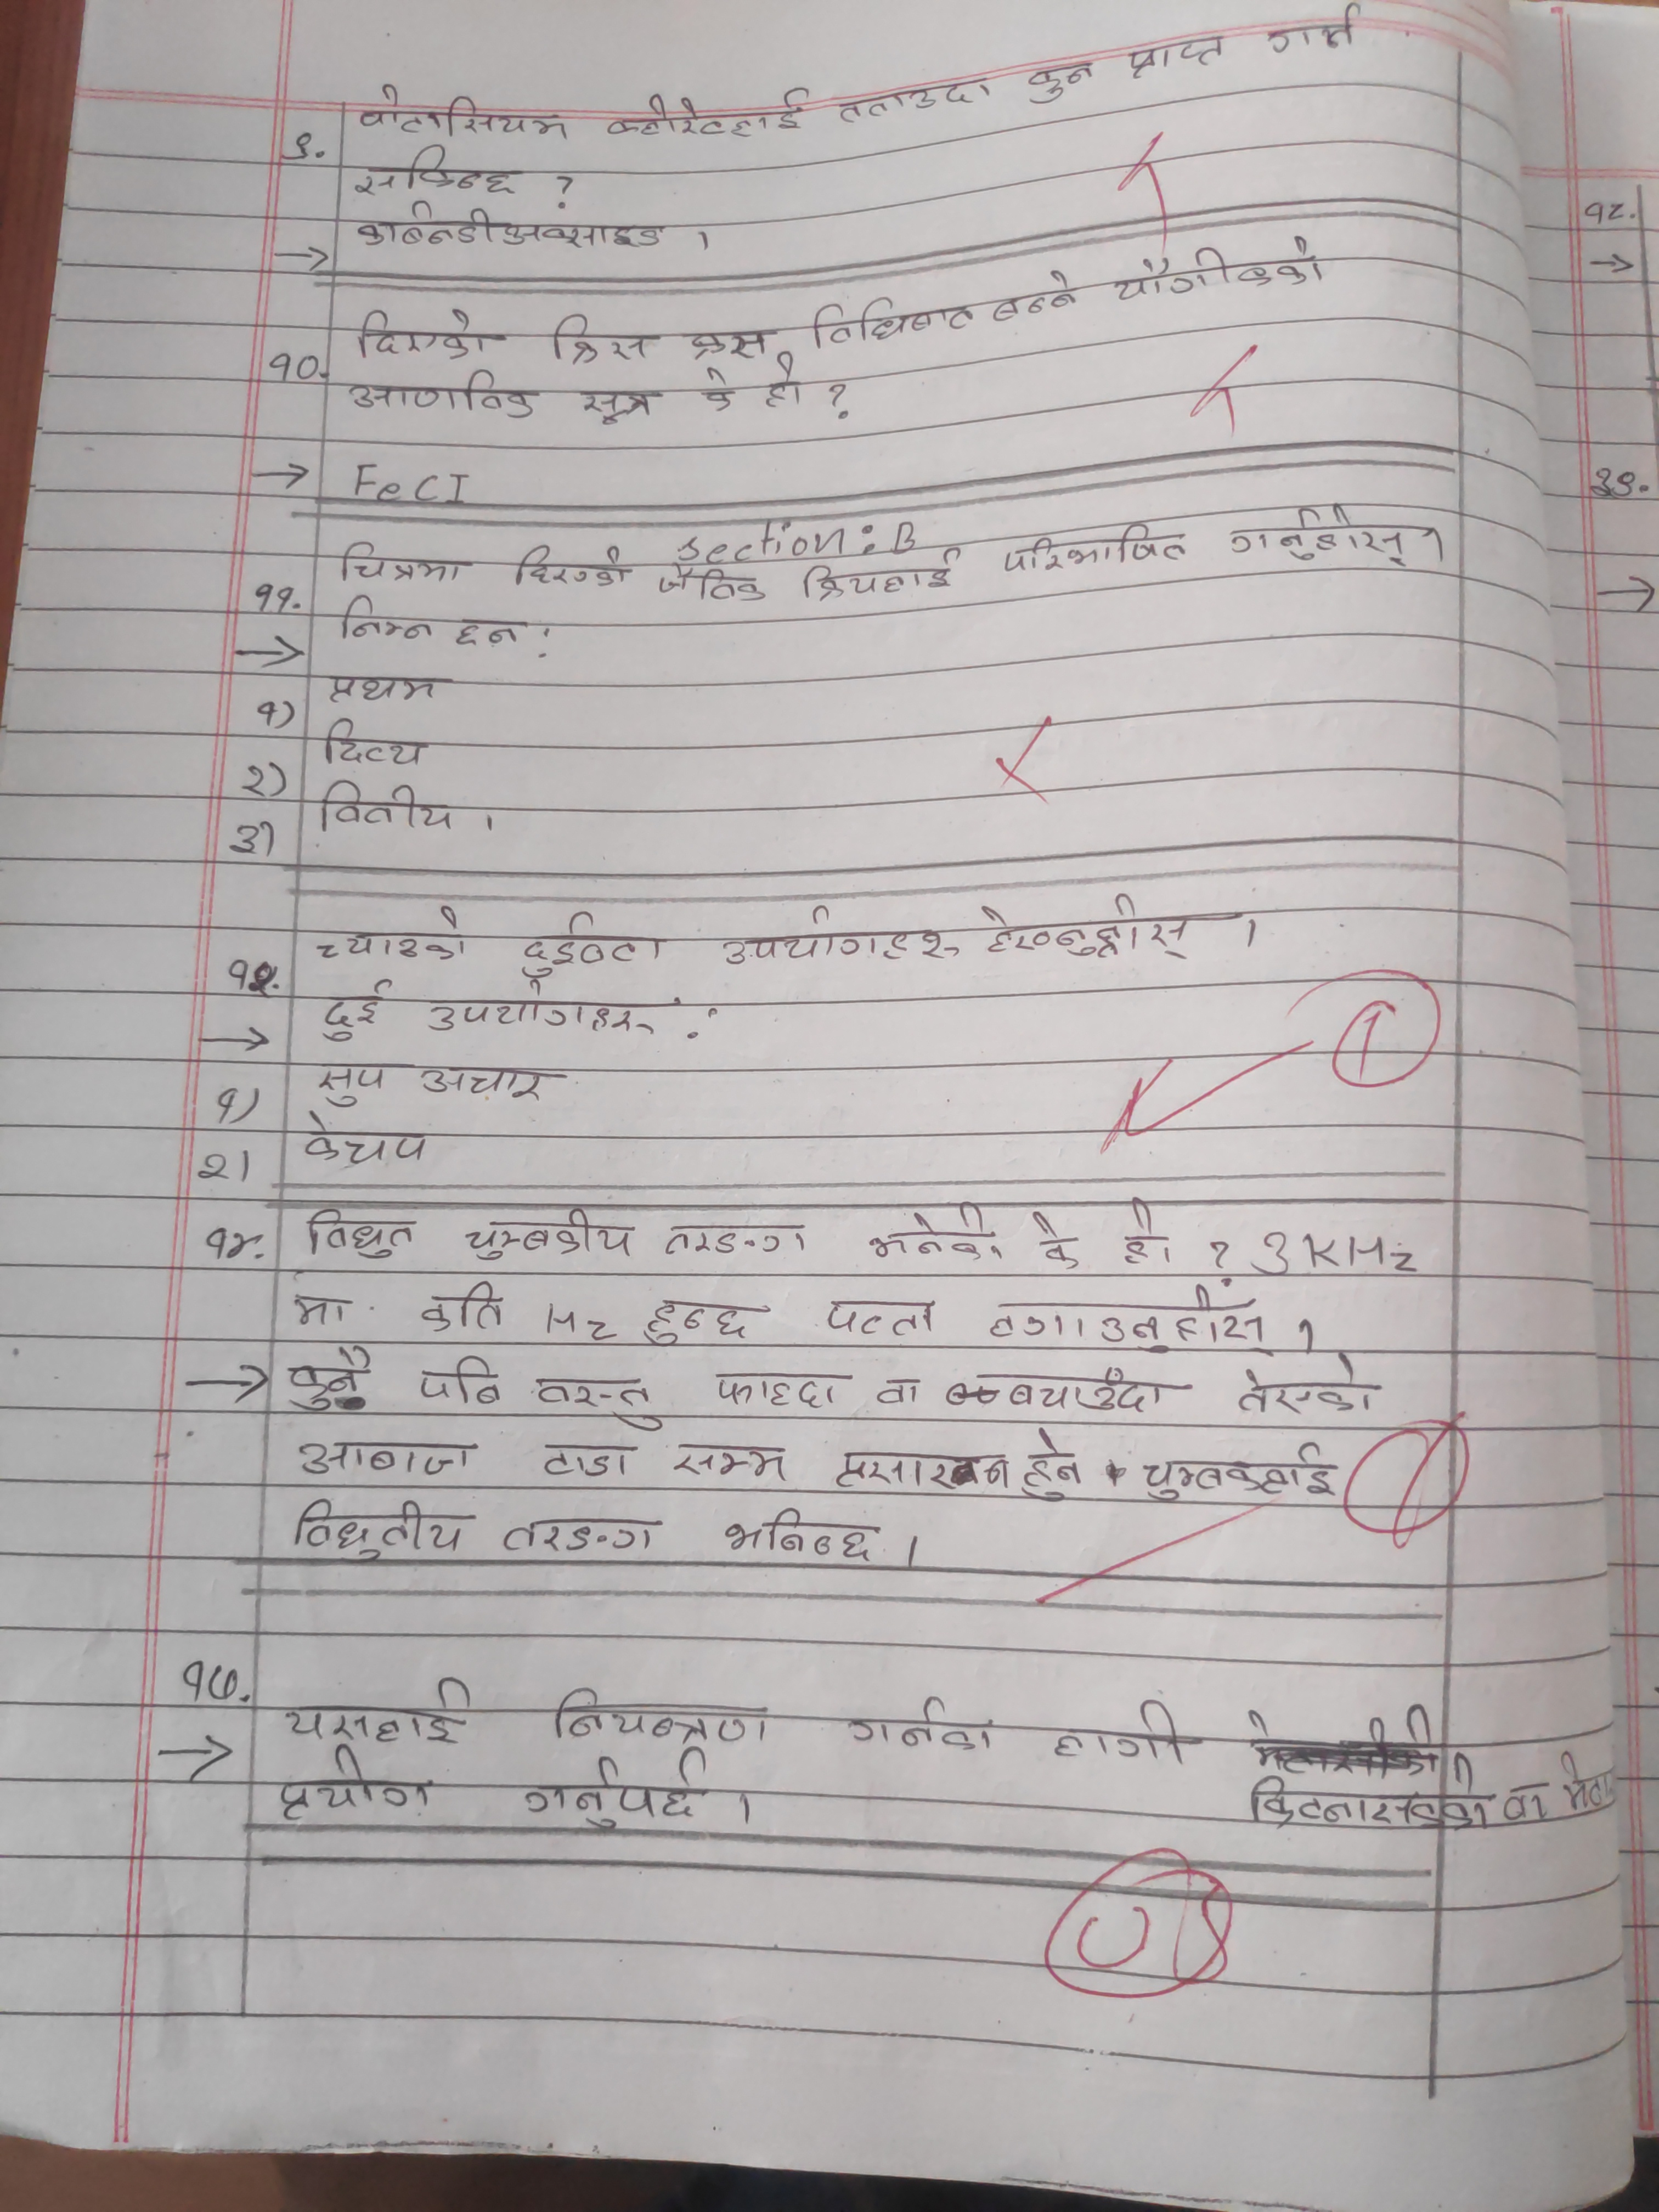text: (983, 1289, 1272, 1355), (1243, 1764, 1488, 1838), (976, 890, 1218, 963), (718, 904, 962, 970), (1223, 502, 1448, 573), (357, 202, 666, 253), (519, 1750, 713, 1831), (1107, 235, 1328, 305), (547, 1683, 782, 1747), (425, 979, 667, 1040), (282, 1676, 483, 1749), (354, 84, 570, 143), (1138, 1444, 1338, 1507), (270, 1747, 439, 1818), (1053, 1691, 1195, 1775), (291, 1494, 469, 1561), (460, 1204, 638, 1268), (950, 1366, 1175, 1416), (312, 900, 472, 970), (516, 909, 674, 979), (606, 89, 812, 141), (1232, 1352, 1378, 1423), (347, 368, 535, 421), (349, 143, 519, 202), (1000, 523, 1194, 575), (310, 775, 460, 840), (843, 1693, 993, 1757), (725, 1505, 880, 1566), (830, 1449, 1012, 1500), (528, 1369, 664, 1437), (861, 1200, 1007, 1263), (798, 550, 957, 606), (349, 307, 502, 361), (809, 300, 978, 348), (286, 1437, 481, 1479), (300, 1113, 432, 1169), (498, 1515, 662, 1559), (835, 78, 995, 122), (301, 1205, 422, 1263), (657, 1217, 816, 1261), (335, 538, 471, 589), (321, 712, 434, 772), (643, 1291, 756, 1350), (709, 1369, 850, 1416), (286, 1346, 376, 1418), (547, 312, 657, 369), (512, 542, 636, 590), (823, 1291, 938, 1343), (1018, 1426, 1093, 1503), (415, 1277, 509, 1336), (317, 975, 399, 1043), (1263, 3, 1370, 56), (418, 1062, 554, 1103), (411, 1352, 505, 1409), (671, 1440, 788, 1486), (336, 592, 436, 644), (992, 268, 1084, 324), (1112, 1198, 1178, 1275), (657, 561, 765, 606), (533, 1442, 641, 1484), (321, 672, 448, 707), (1021, 59, 1100, 111), (1124, 40, 1230, 78), (314, 1061, 392, 1109), (1025, 1209, 1080, 1275), (575, 381, 653, 425), (288, 1289, 357, 1329), (681, 327, 775, 357), (1497, 1780, 1549, 1831), (450, 618, 525, 651), (762, 355, 805, 411), (695, 369, 735, 418), (870, 1374, 925, 1407)
